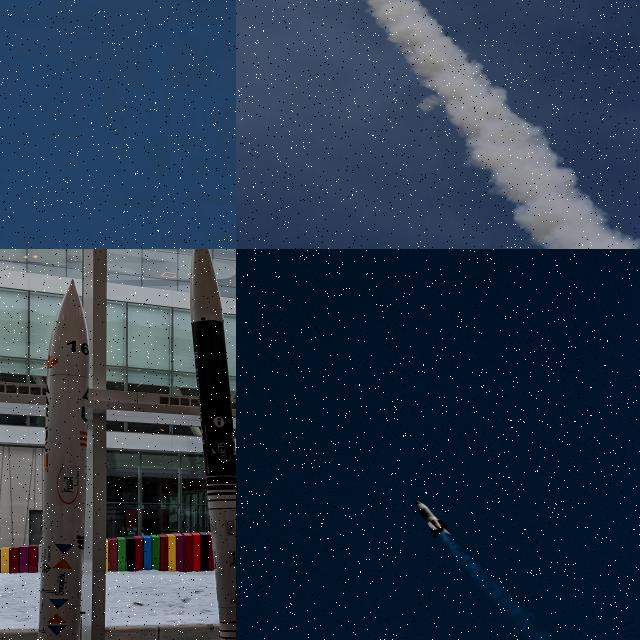Rocket: (37, 279, 89, 640), (189, 249, 236, 640), (413, 498, 453, 540)
